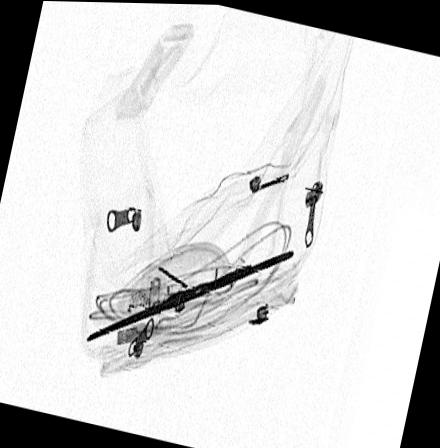Scissors: (82, 239, 293, 346)
